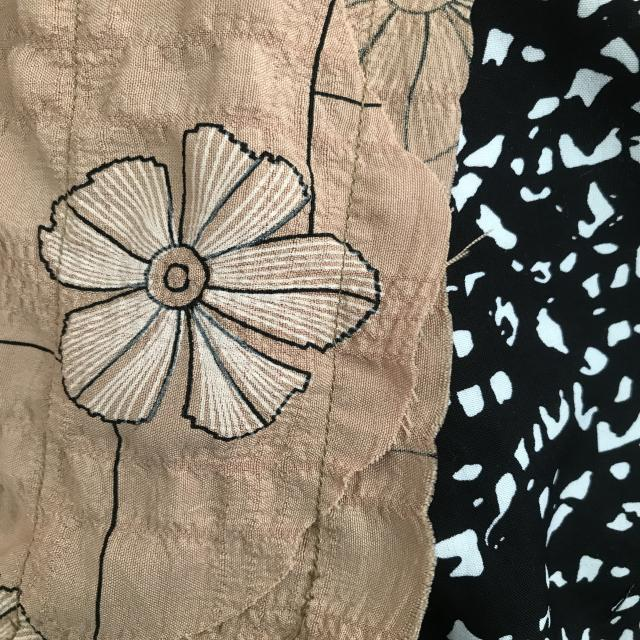good: (317, 367, 346, 484), (341, 129, 365, 228)
